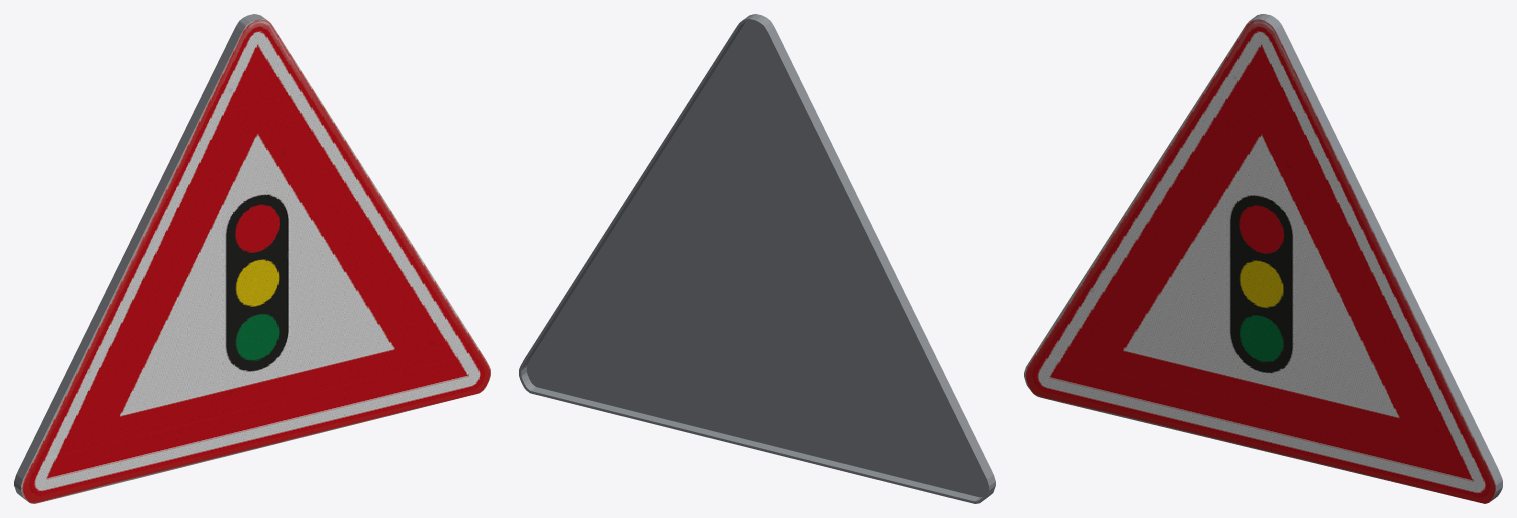
3 views of the same model, side by side, from view 1: azimuth 30°, elevation 25°; view 2: azimuth 150°, elevation 25°; view 3: azimuth 330°, elevation 25° (orthographic).
Visible parts, largest first — view 1: cat_9ba8df8ac75aa713; view 2: cat_9ba8df8ac75aa713; view 3: cat_9ba8df8ac75aa713.
Part boxes in pixels (bbox=[...]): cat_9ba8df8ac75aa713: bbox=[14, 14, 490, 503]; cat_9ba8df8ac75aa713: bbox=[519, 14, 995, 503]; cat_9ba8df8ac75aa713: bbox=[1024, 14, 1502, 503].
Bounding box in the file's own units: 0.6 × 0.015 × 0.5245.
Materials: 2 (1 with a texture image).
